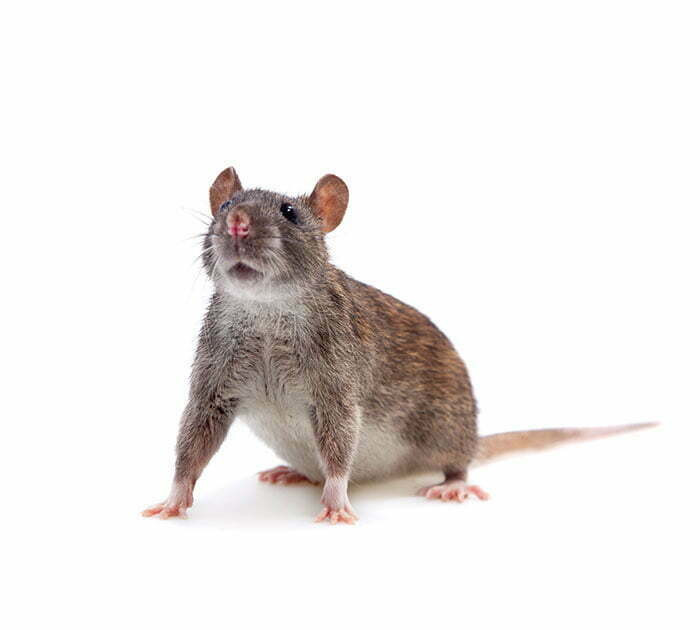rat: (138, 164, 662, 529)
